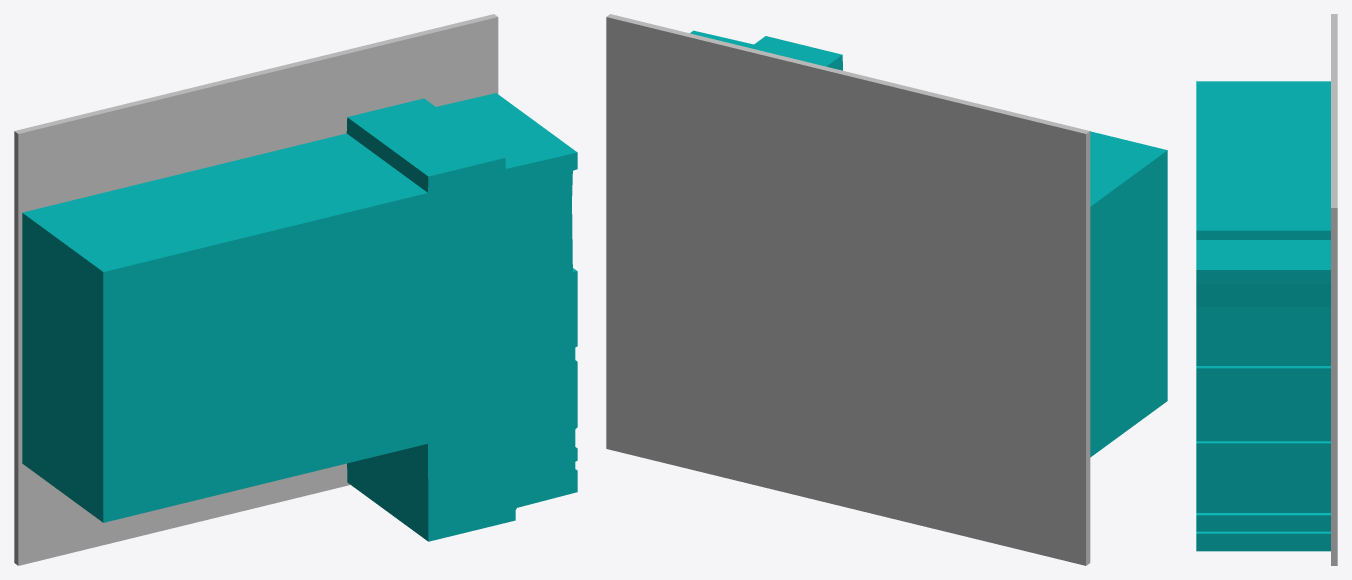
3 renders of one model, left to right at view 1: azimuth 30°, elevation 25°; view 2: azimuth 150°, elevation 25°; view 3: azimuth 270°, elevation 25°, orthographic. The views are drawn at different scales.
Parts seen in each view (by area): view 1: world; view 2: world; view 3: world.
Part boxes in pixels (x1,y1,x2,y2): world: [14, 14, 577, 565]; world: [606, 14, 1167, 565]; world: [1196, 14, 1337, 565].
Bounding box in the file's own units: 10.23 × 8.8 × 3.15.
